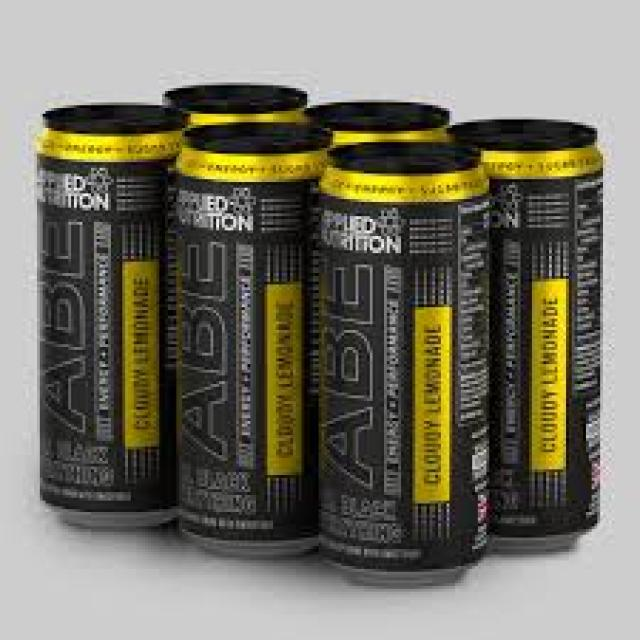Cans: (307, 137, 501, 583), (174, 117, 347, 560), (28, 100, 188, 526)
